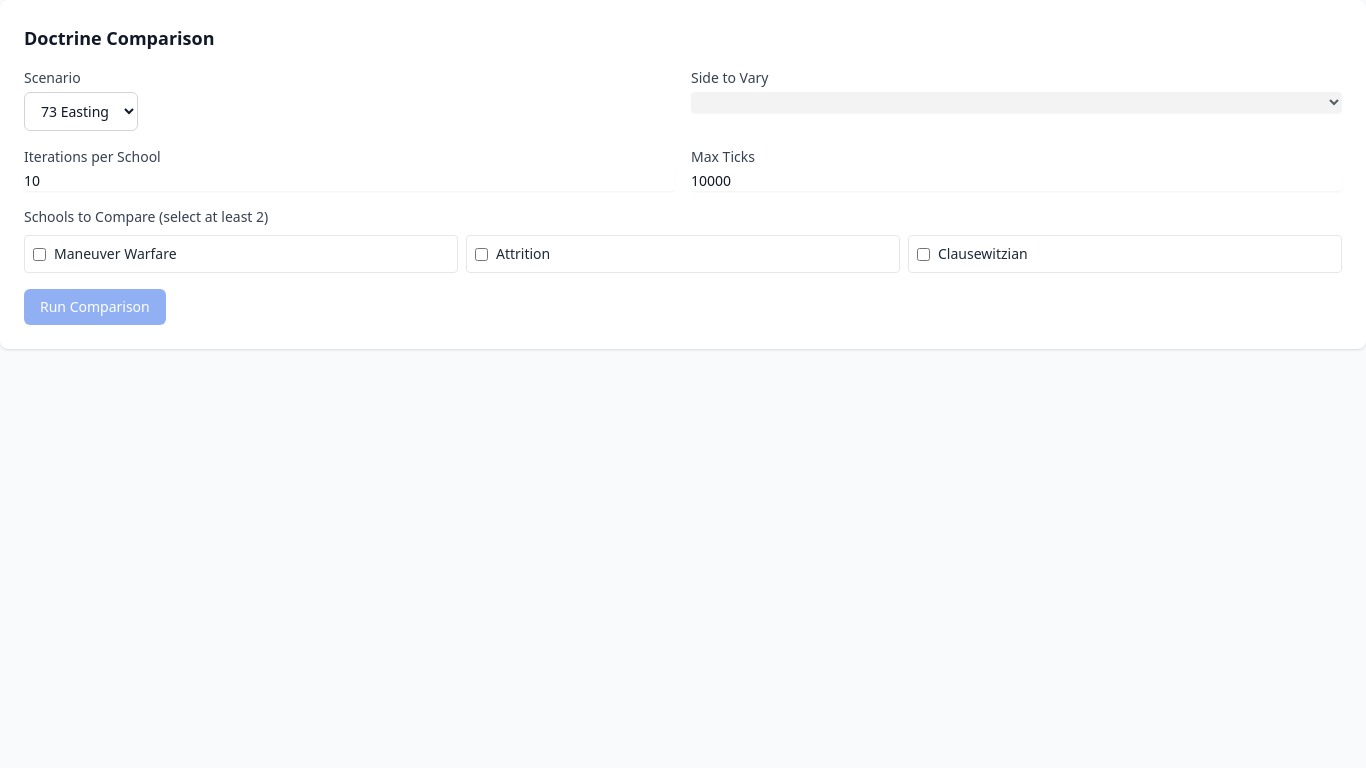
DoctrineComparePanel › resets to exact Austerlitz sides and submits non-blue metrics
The width and height of the screenshot is (1366, 768).
Expected: the text "Maneuver Warfare" is shown, [54,244,177,264]
Select "73 Easting" in the 1st dropdown at (81, 112), box [24,92,138,131]
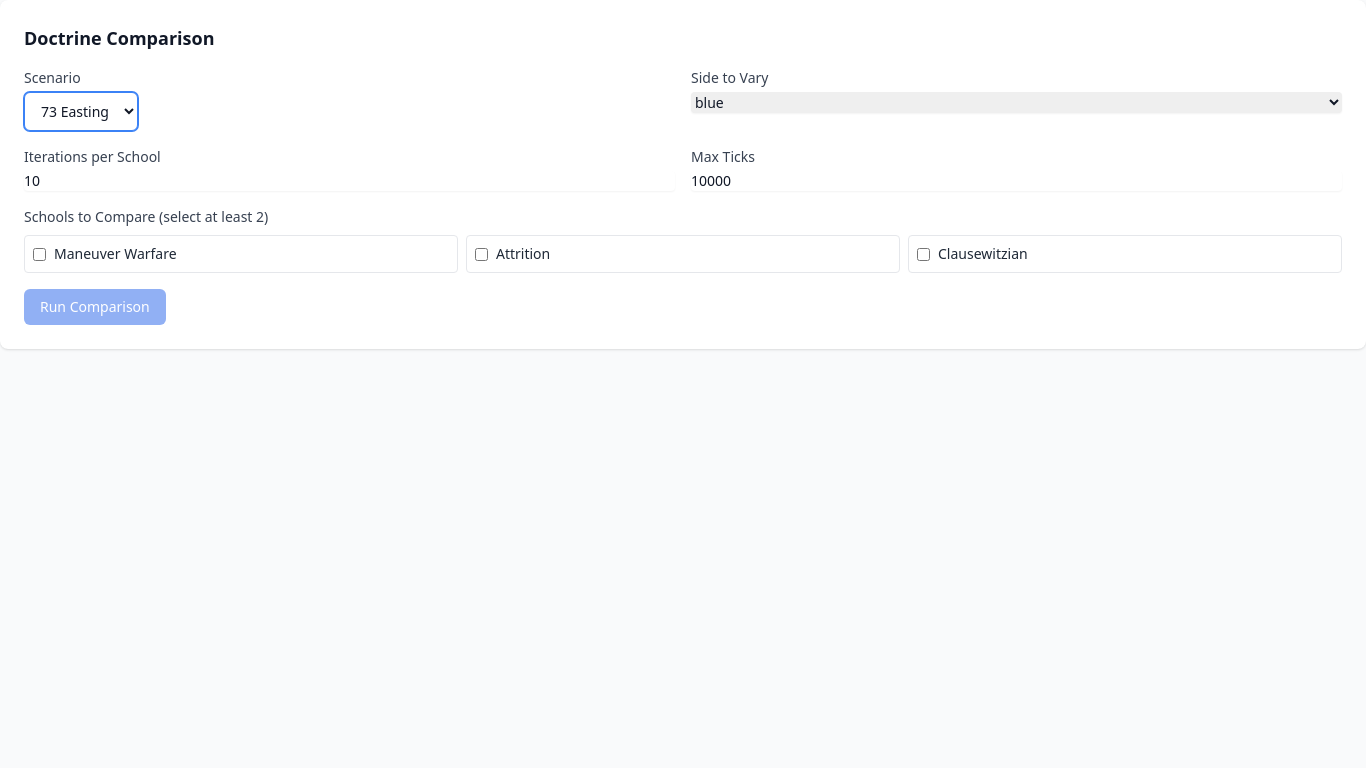
Select "red" in the dropdown named "Side to vary" at (1016, 102), box [691,92,1342,113]
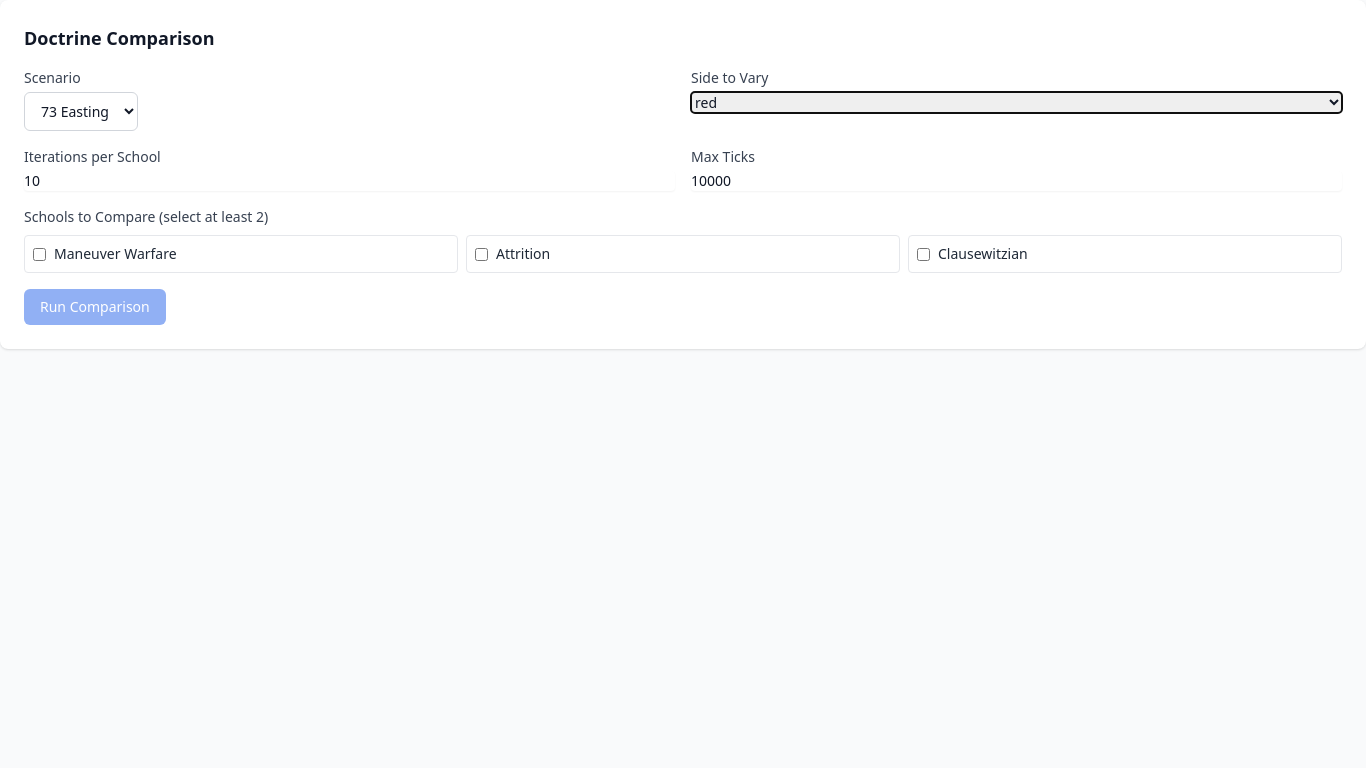
Select "Austerlitz" in the 1st dropdown at (81, 112), box [24,92,138,131]
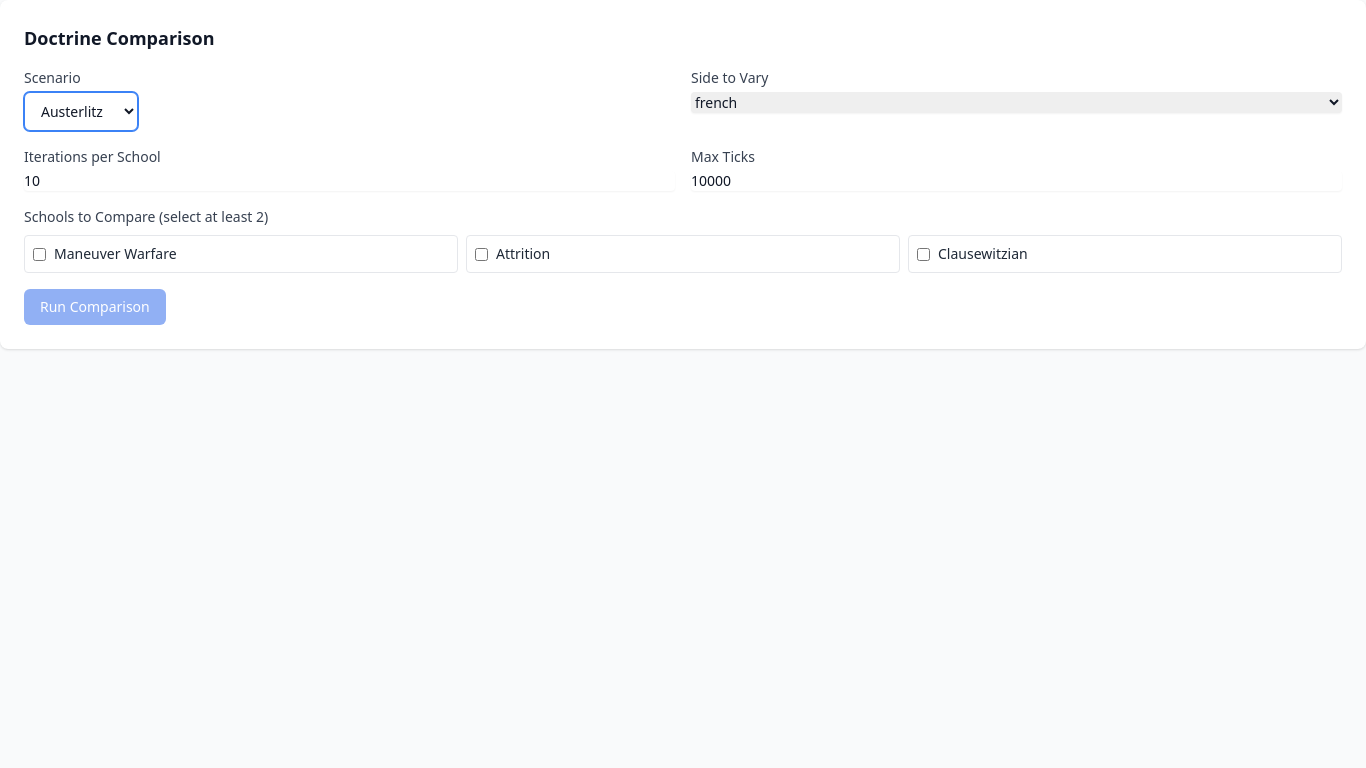
Expected: the option "Blue" is not shown
Click the checkbox labelled "Maneuver Warfare".
click(40, 254)  # box [33,248,46,260]
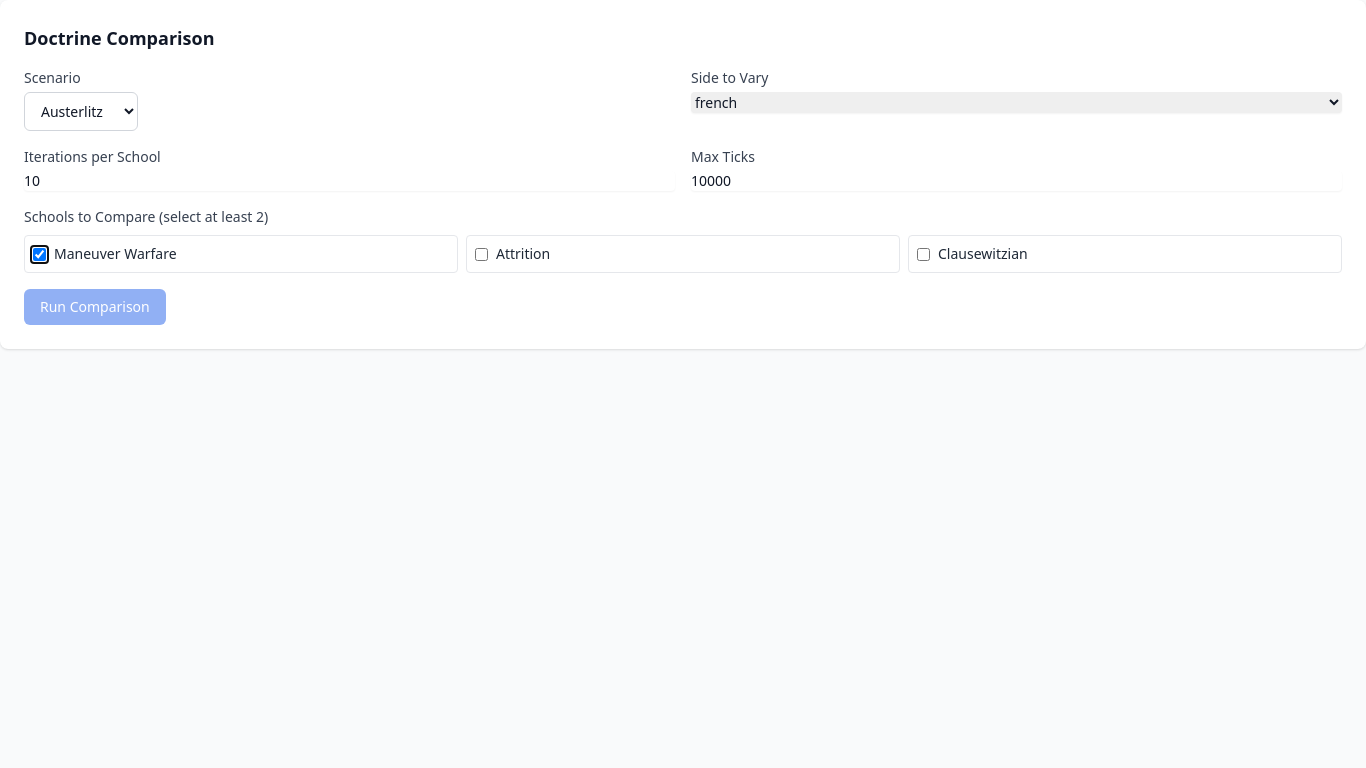
Click the checkbox labelled "Attrition".
click(482, 254)  # box [475,248,488,260]
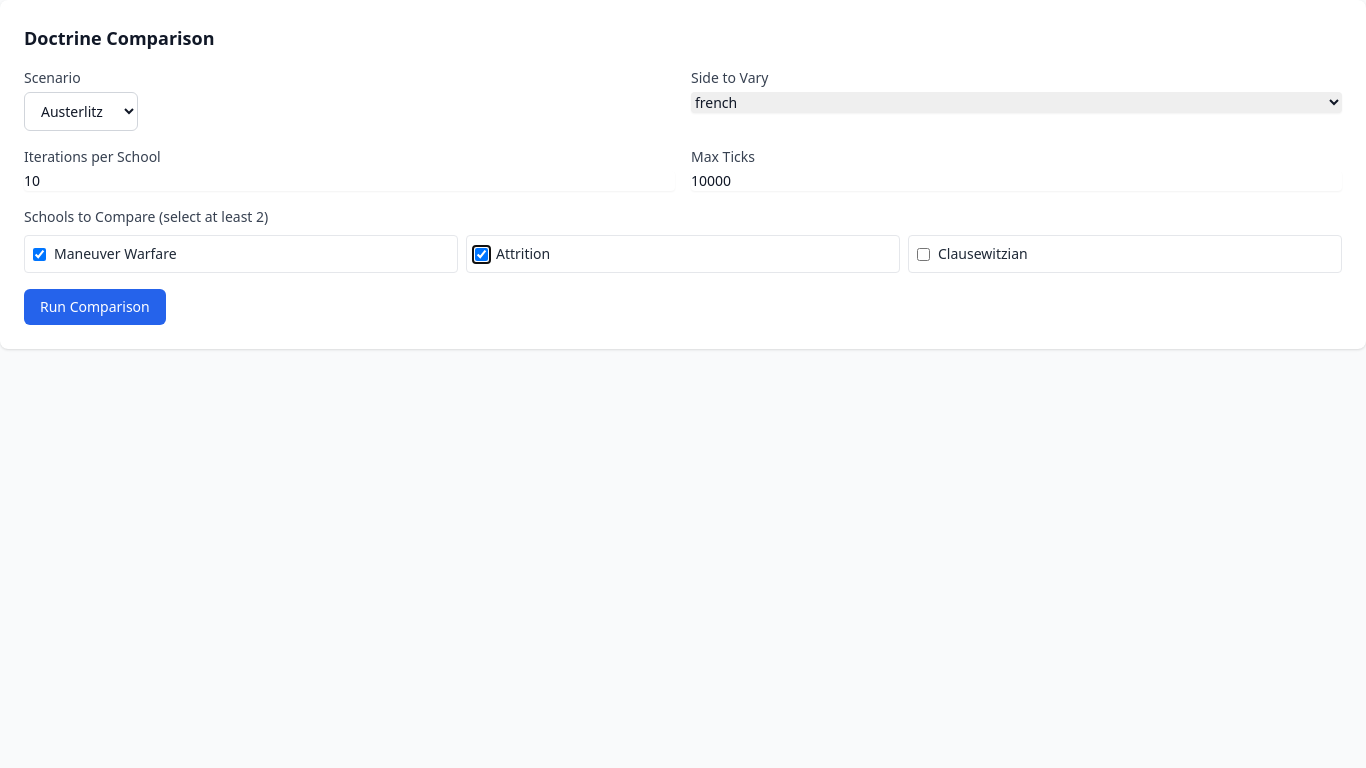
Click the button "Run Comparison".
click(95, 307)  # box [24,289,166,325]
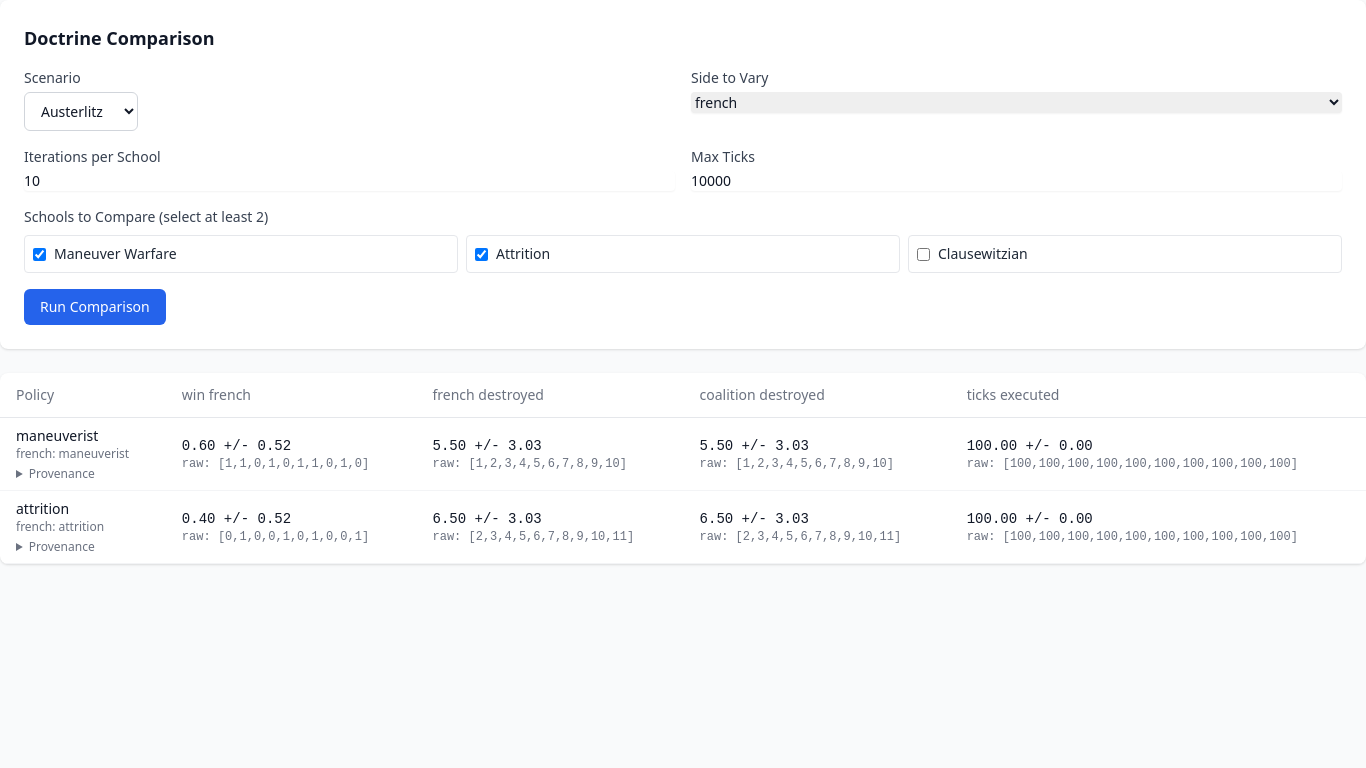
Result: the text "french: maneuverist" is shown at [16,445,129,462]
Result: the text "french: attrition" is shown at [16,518,104,535]
